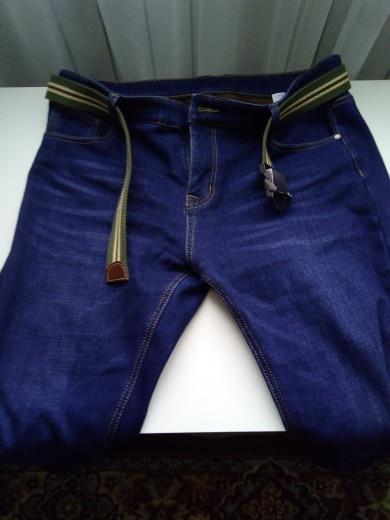jeans: (16, 55, 390, 449)
